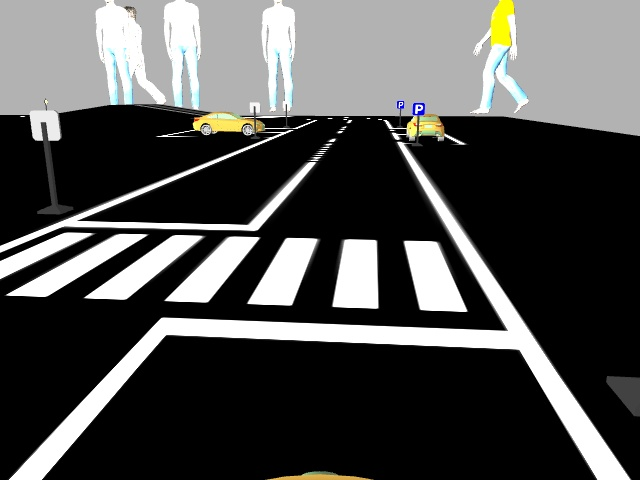Parking: (411, 100, 425, 116), (396, 99, 404, 110)
